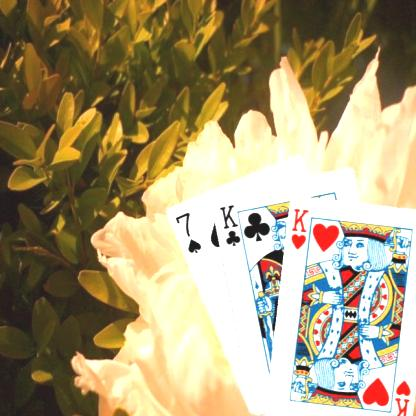7S: (172, 209, 203, 255)
KC: (216, 202, 247, 250)
KH: (288, 205, 310, 251), (389, 376, 411, 416)
